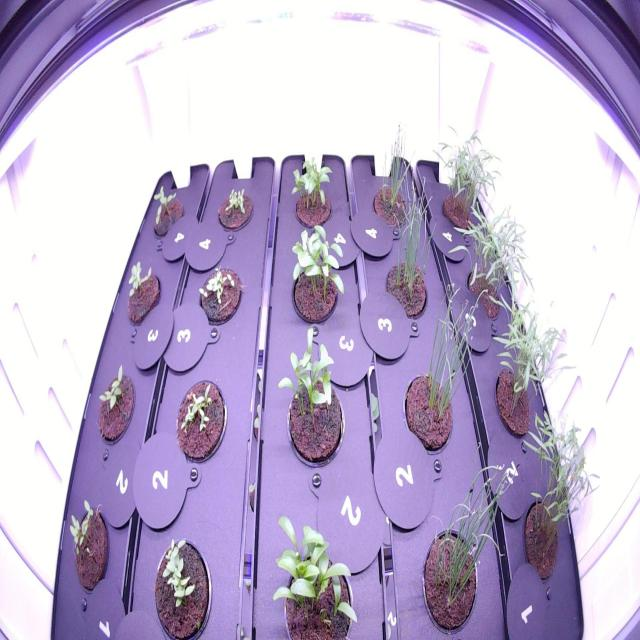germination: (268, 507, 363, 640), (270, 325, 351, 473), (148, 528, 215, 639), (284, 218, 348, 330), (65, 493, 118, 608), (170, 374, 232, 472), (91, 353, 138, 451), (284, 152, 338, 232), (118, 250, 169, 334), (193, 258, 245, 333), (143, 181, 188, 242), (213, 183, 258, 235)
